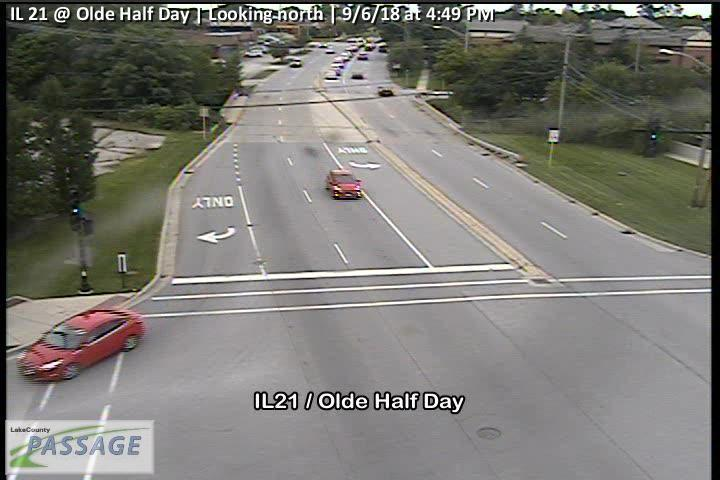Sedan: (15, 306, 146, 382), (325, 168, 363, 200)
